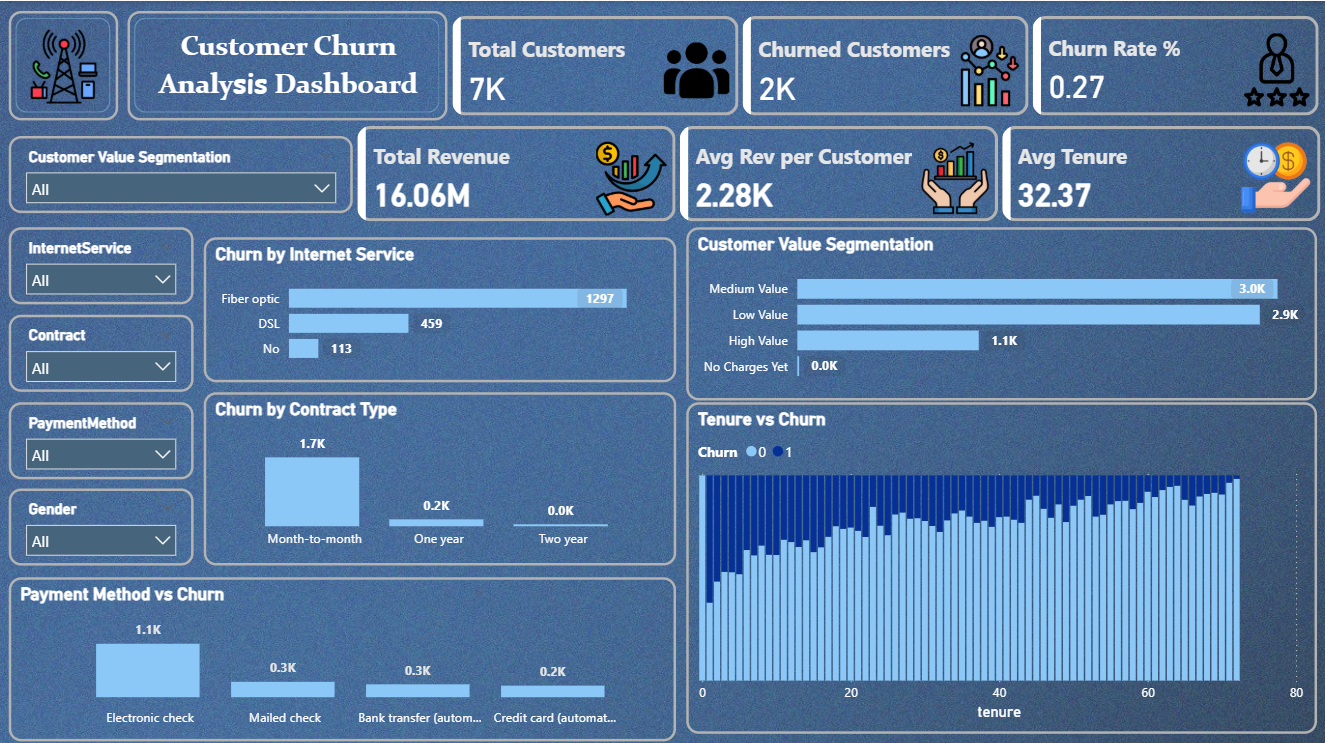

The dashboard page shown, as its layout file describes it:
{"tool":"powerbi","page":{"name":"DashBoard","canvas":[1280,720],"ordinal":0},"visuals":[{"type":"cardVisual","fields":{"Data":["WA_Fn-UseC_-Telco-Customer-Churn.Total Customers","WA_Fn-UseC_-Telco-Customer-Churn.Churned Customers","WA_Fn-UseC_-Telco-Customer-Churn.Churn Rate %"]},"box":[431.9,9.7,848.1,106.2],"z":0},{"type":"shape","box":[8.2,9.6,105.7,105.7],"z":1000},{"type":"image","box":[8.2,23.3,105.7,81],"z":2000},{"type":"shape","box":[123.5,9.6,308.7,105.7],"z":3000},{"type":"cardVisual","fields":{"Data":["WA_Fn-UseC_-Telco-Customer-Churn.Total Revenue","WA_Fn-UseC_-Telco-Customer-Churn.Avg Revenue Per Customer","WA_Fn-UseC_-Telco-Customer-Churn.Avg Tenure"]},"box":[340.3,115.3,940,102.9],"z":4000},{"type":"textbox","box":[142.7,22,271.7,81],"z":5000},{"type":"slicer","fields":{"Values":["WA_Fn-UseC_-Telco-Customer-Churn.Contract"]},"box":[8.2,303.3,178.4,74.1],"z":6000},{"type":"slicer","fields":{"Values":["WA_Fn-UseC_-Telco-Customer-Churn.InternetService"]},"box":[8.2,218.2,178.4,74.1],"z":7000},{"type":"slicer","fields":{"Values":["WA_Fn-UseC_-Telco-Customer-Churn.Customer Value Segmentation"]},"box":[8.2,130.4,332.1,74.1],"z":8000},{"type":"slicer","fields":{"Values":["WA_Fn-UseC_-Telco-Customer-Churn.PaymentMethod"]},"box":[8.2,387,178.4,74.1],"z":9000},{"type":"slicer","fields":{"Values":["WA_Fn-UseC_-Telco-Customer-Churn.Gender"]},"box":[8.2,470.7,178.4,74.1],"z":10000},{"type":"clusteredColumnChart","title":"Churn by Contract Type","fields":{"Category":["WA_Fn-UseC_-Telco-Customer-Churn.Contract"],"Y":["Sum(WA_Fn-UseC_-Telco-Customer-Churn.Churn)"]},"box":[197.1,377.1,455.7,167.1],"z":12000},{"type":"clusteredBarChart","title":"Churn by Internet Service","fields":{"Category":["WA_Fn-UseC_-Telco-Customer-Churn.InternetService"],"Y":["Sum(WA_Fn-UseC_-Telco-Customer-Churn.Churn)"]},"box":[197.1,228.6,455.7,140],"z":13000},{"type":"clusteredBarChart","title":"Customer Value Segmentation","fields":{"Category":["WA_Fn-UseC_-Telco-Customer-Churn.Customer Value Segmentation"],"Y":["CountNonNull(WA_Fn-UseC_-Telco-Customer-Churn.CustomerID)"]},"box":[662.9,218.6,608.6,167.1],"z":14000},{"type":"clusteredColumnChart","title":"Payment Method vs Churn","fields":{"Category":["WA_Fn-UseC_-Telco-Customer-Churn.PaymentMethod"],"Y":["Sum(WA_Fn-UseC_-Telco-Customer-Churn.Churn)"]},"box":[8.6,555.7,644.3,158.6],"z":15000},{"type":"hundredPercentStackedColumnChart","title":"Tenure vs Churn","fields":{"Category":["WA_Fn-UseC_-Telco-Customer-Churn.tenure"],"Y":["CountNonNull(WA_Fn-UseC_-Telco-Customer-Churn.CustomerID)"],"Series":["WA_Fn-UseC_-Telco-Customer-Churn.Churn"]},"box":[662.9,387.1,608.6,320],"z":16000}]}

Visuals, with their boxes in screenshot pixels (x1, y1, x2, y2), scaled from the page's 1280x720 canvas onto the 1325x743 screenshot:
cardVisual - WA_Fn-UseC_-Telco-Customer-Churn.Total Customers x WA_Fn-UseC_-Telco-Customer-Churn.Churned Customers: 447 10 1324 120
shape: 8 10 118 119
image: 8 24 118 108
shape: 128 10 447 119
cardVisual - WA_Fn-UseC_-Telco-Customer-Churn.Total Revenue x WA_Fn-UseC_-Telco-Customer-Churn.Avg Revenue Per Customer: 352 119 1324 225
textbox: 148 23 429 106
slicer - WA_Fn-UseC_-Telco-Customer-Churn.Contract: 8 313 193 389
slicer - WA_Fn-UseC_-Telco-Customer-Churn.InternetService: 8 225 193 302
slicer - WA_Fn-UseC_-Telco-Customer-Churn.Customer Value Segmentation: 8 135 352 211
slicer - WA_Fn-UseC_-Telco-Customer-Churn.PaymentMethod: 8 399 193 476
slicer - WA_Fn-UseC_-Telco-Customer-Churn.Gender: 8 486 193 562
"Churn by Contract Type" clusteredColumnChart: 204 389 676 562
"Churn by Internet Service" clusteredBarChart: 204 236 676 380
"Customer Value Segmentation" clusteredBarChart: 686 226 1316 398
"Payment Method vs Churn" clusteredColumnChart: 9 573 676 737
"Tenure vs Churn" hundredPercentStackedColumnChart: 686 399 1316 730
